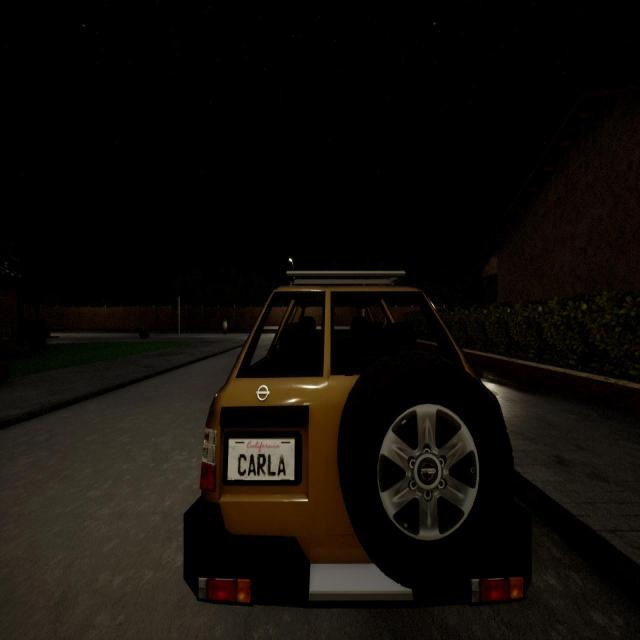Vehicle: (184, 266, 530, 604)
